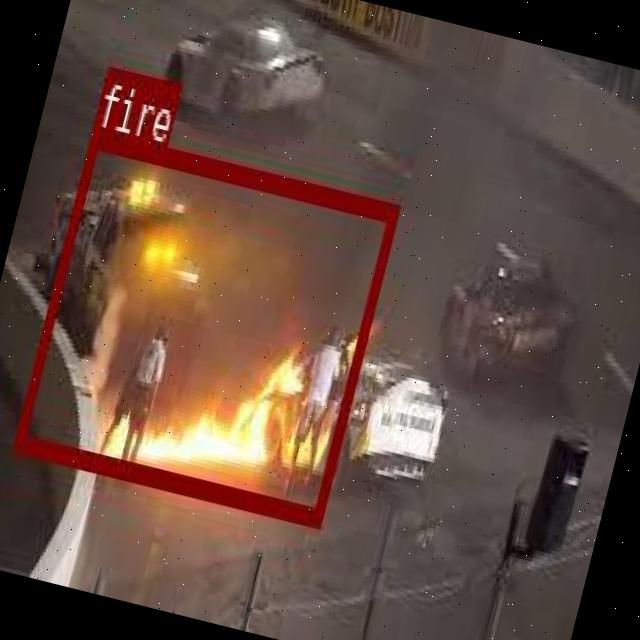fire: (12, 125, 399, 525)
